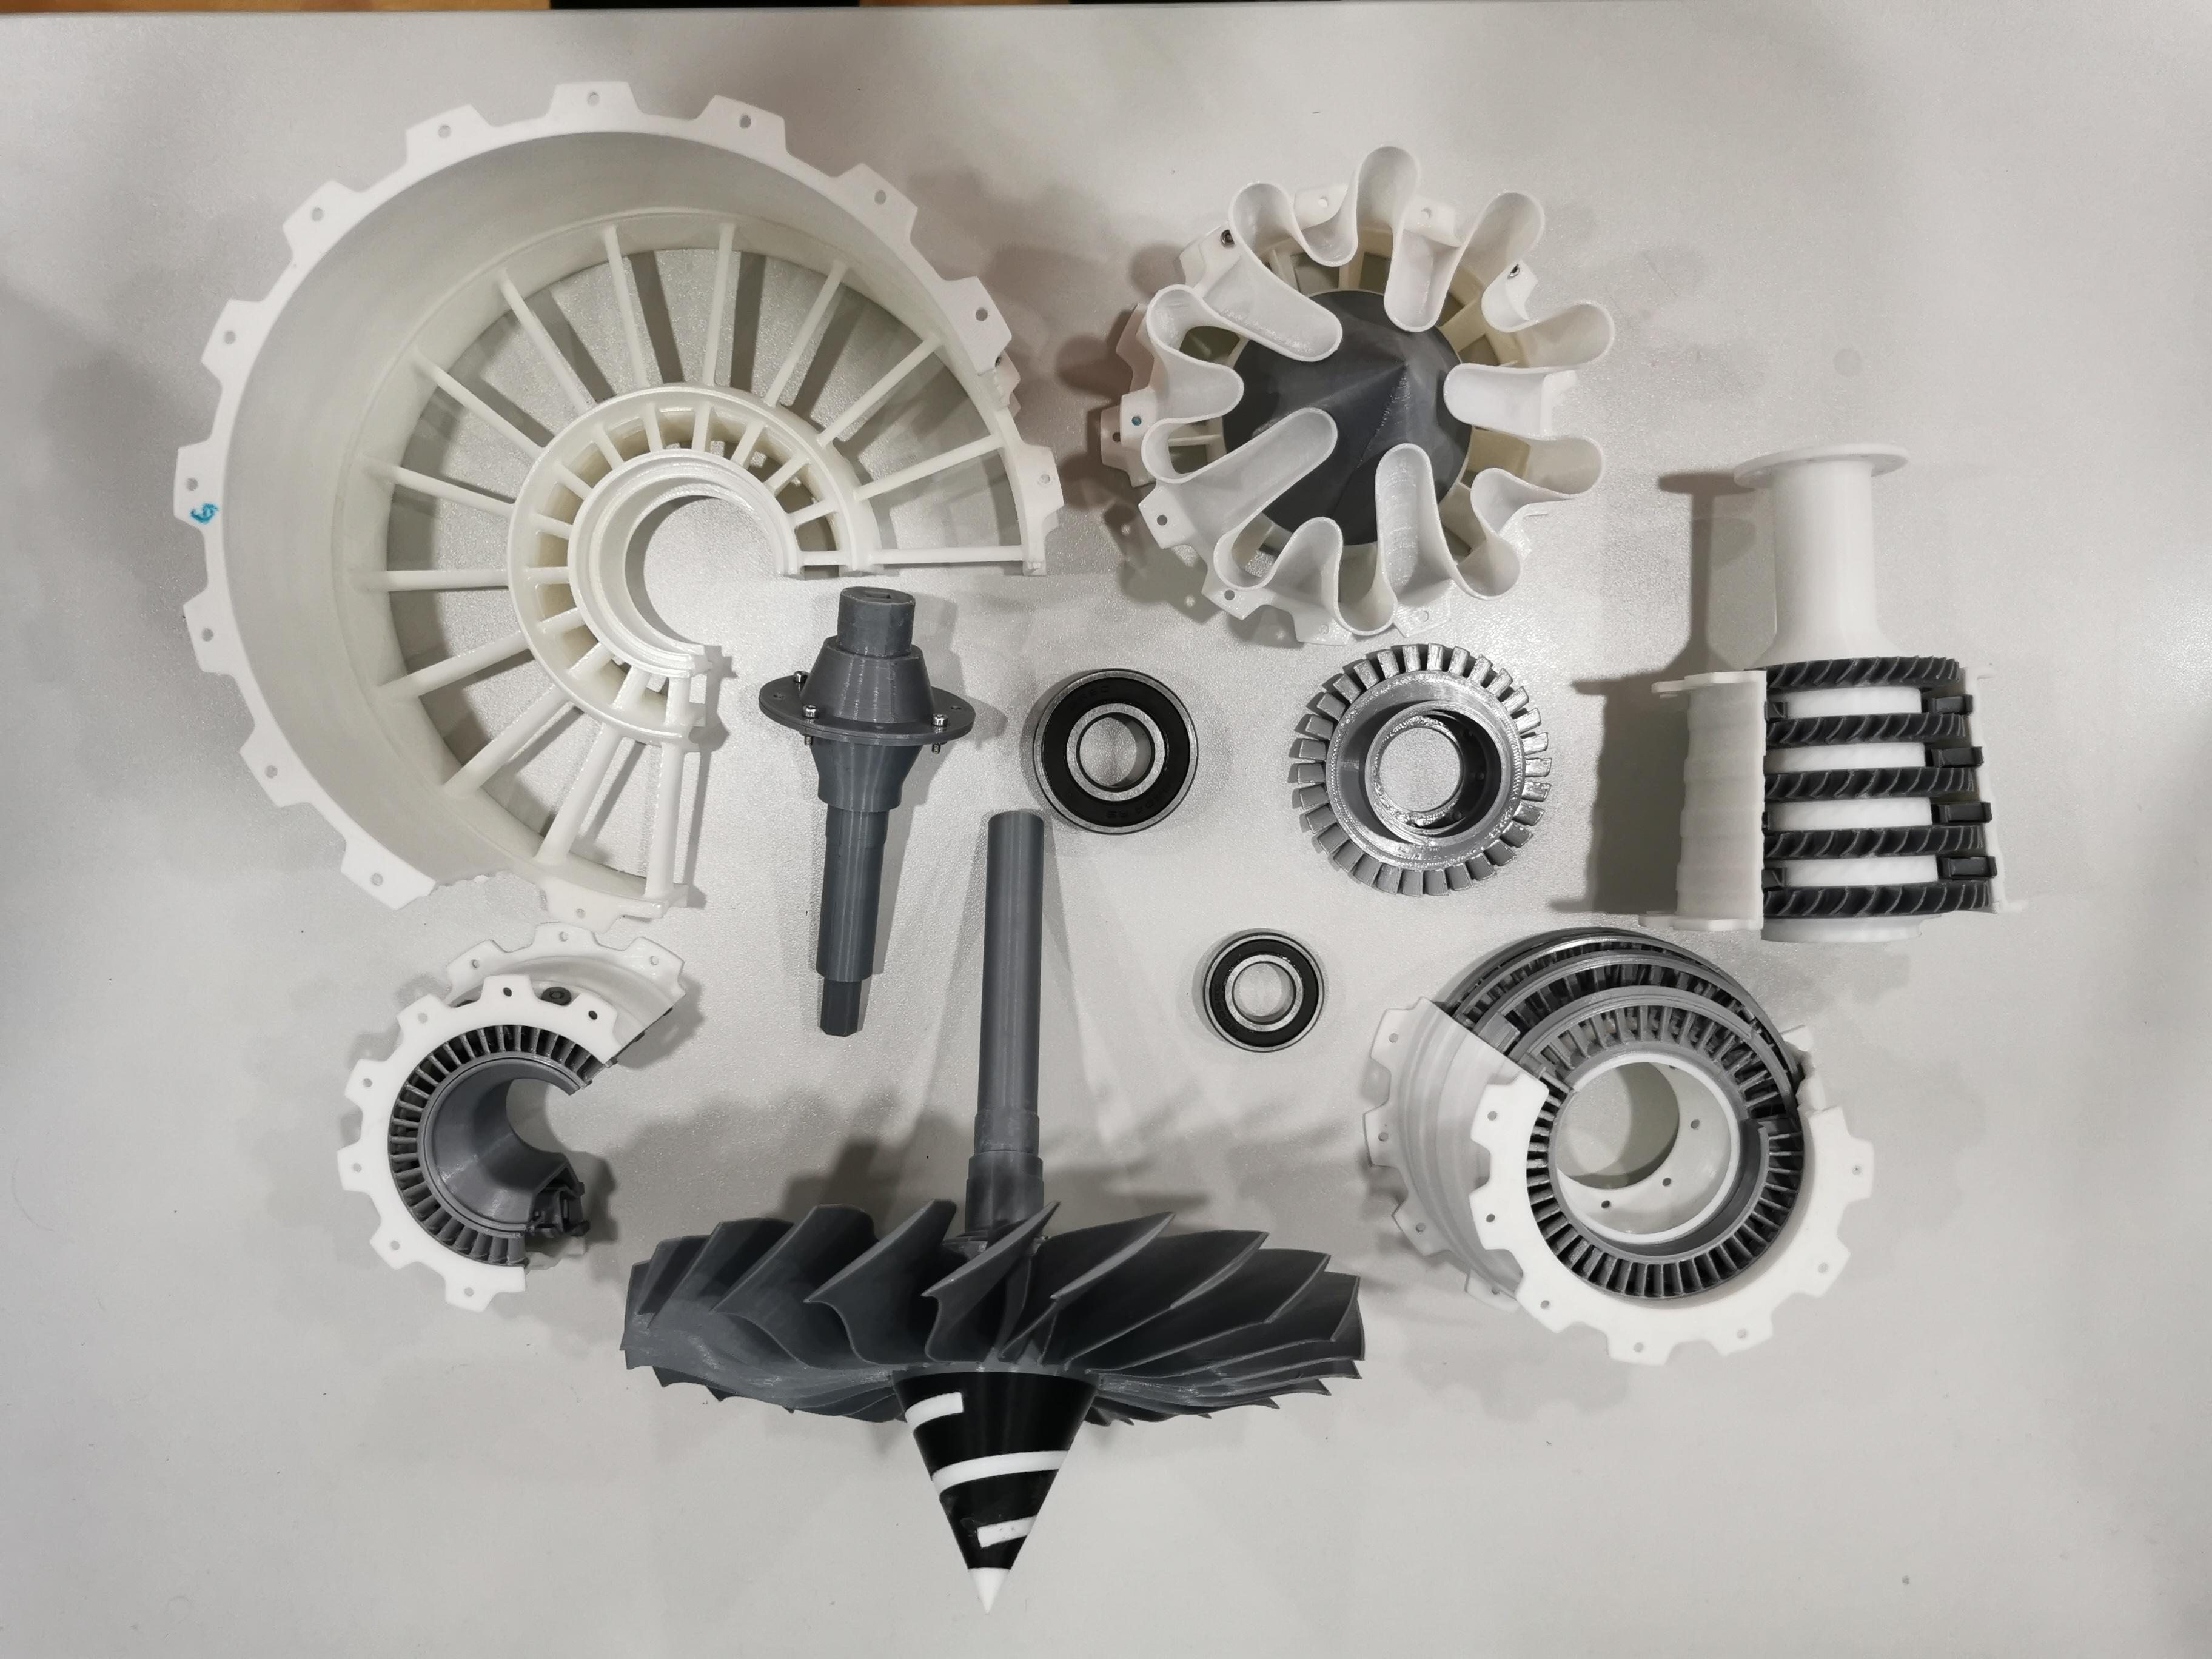Bearing-6003: (1184, 915, 1332, 1065)
Bearing-6204: (1017, 660, 1211, 843)
Combustion Section: (326, 918, 711, 1324)
Fan Casing and Support: (155, 64, 1075, 932)
Fan and Low Pressure Shaft: (604, 798, 1378, 1631)
HPT Section: (1280, 633, 1562, 903)
High Pressure Spool: (1630, 429, 2045, 951)
LPT Section: (1357, 924, 1890, 1373)
Low Pressure Spool: (747, 580, 982, 1060)
Nozzle Section: (1087, 136, 1625, 652)
